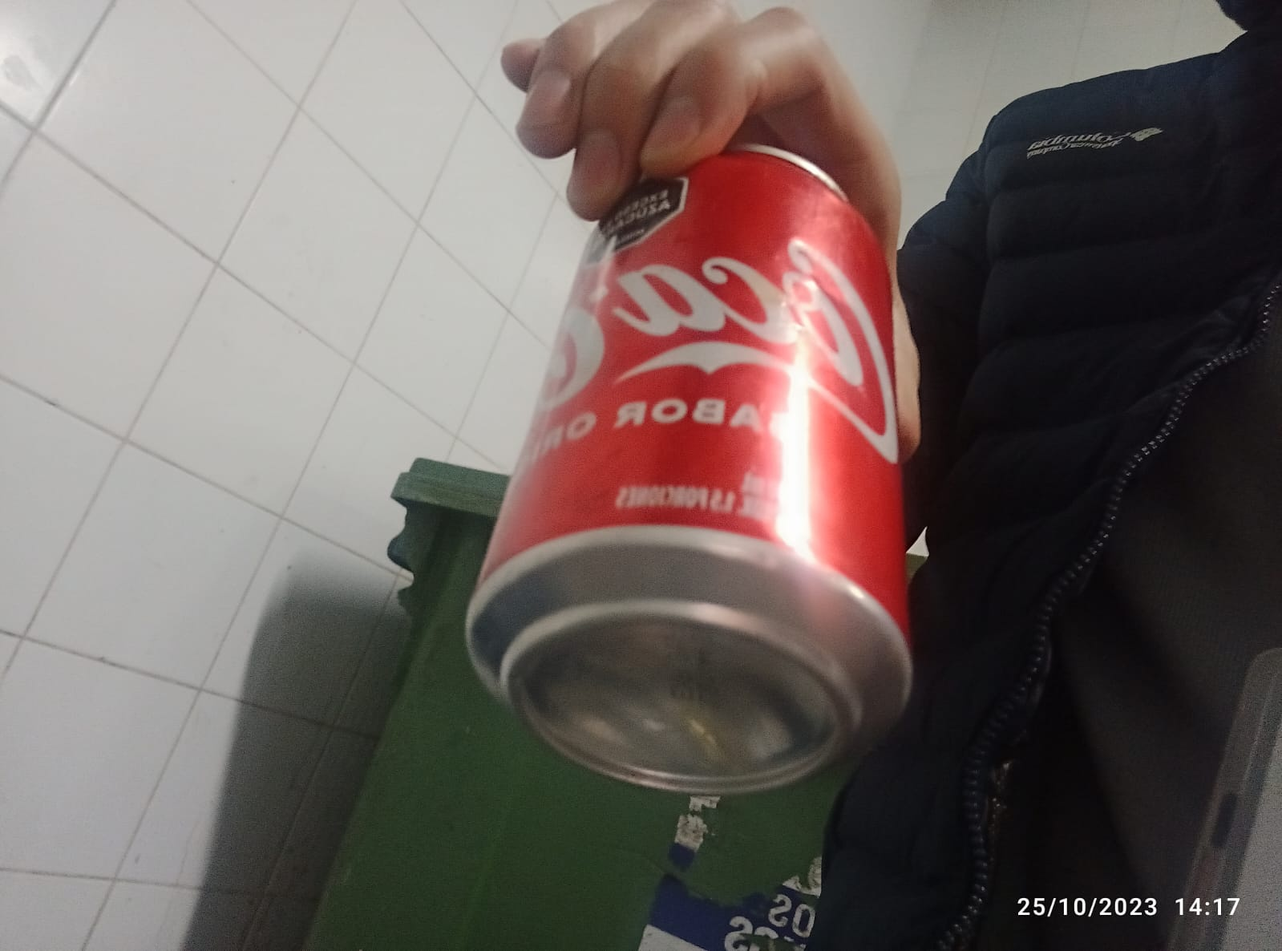Metal: (467, 141, 912, 792)
